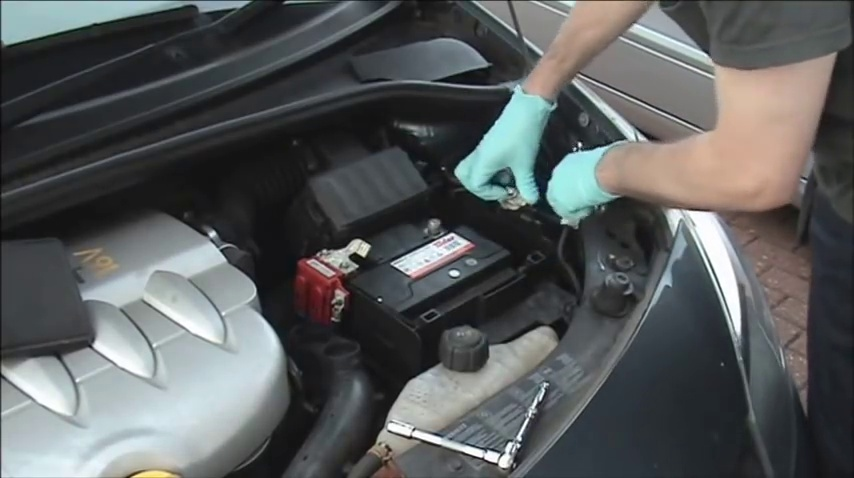battery: (316, 208, 515, 331)
neg_disconnected: (414, 197, 457, 242)
pos_connected: (293, 224, 384, 291)
